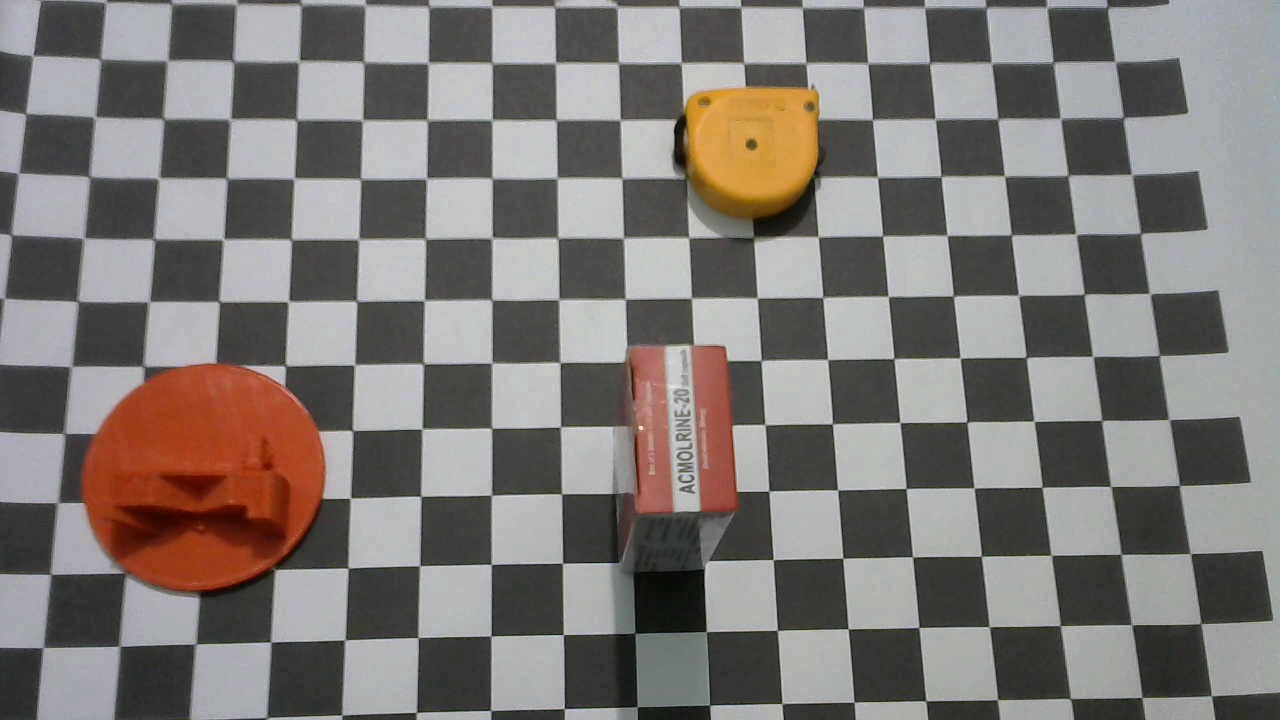blue: (671, 87, 824, 222)
green: (81, 362, 325, 590)
red: (610, 343, 738, 575)
